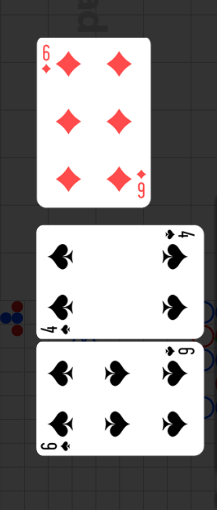4S: (163, 227, 196, 241)
6D: (41, 43, 52, 75)
6S: (40, 439, 73, 452)
